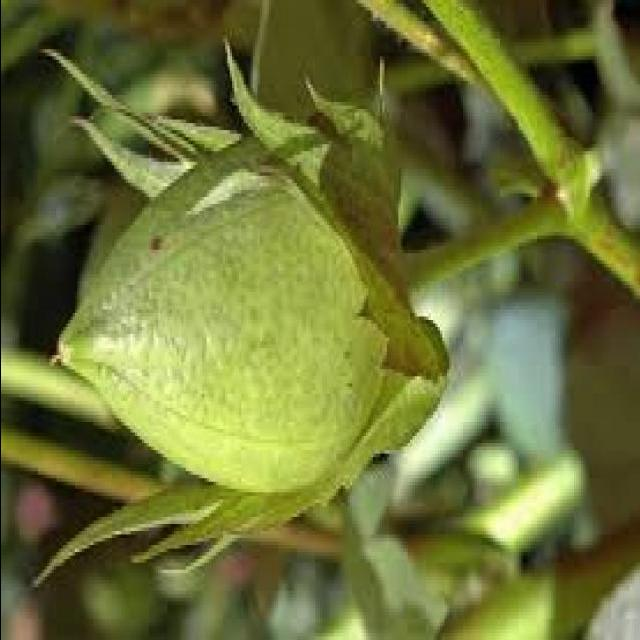Early Boll: (43, 102, 436, 532)
